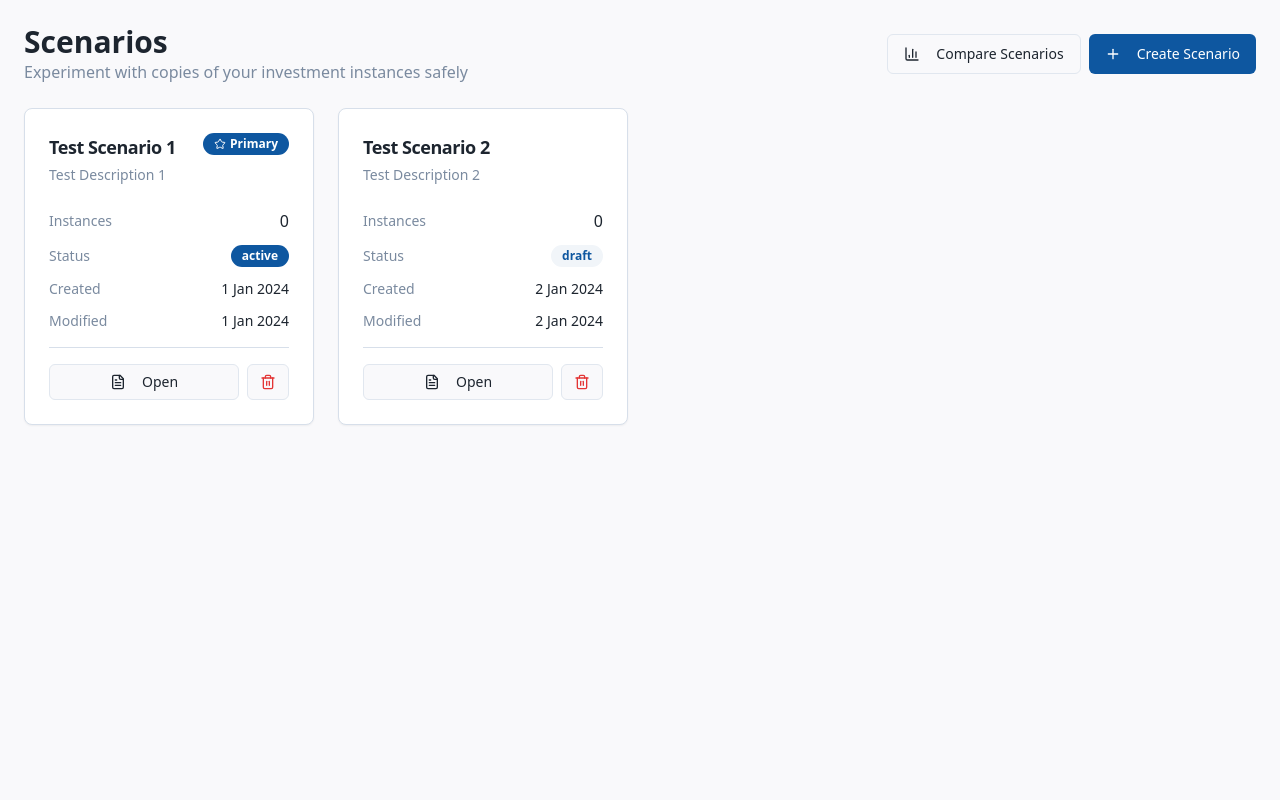
Test: Scenarios Page › handles create scenario dialog
Click the button "Create Scenario".
click(1172, 54)  # box x1=1089 y1=34 x2=1256 y2=74
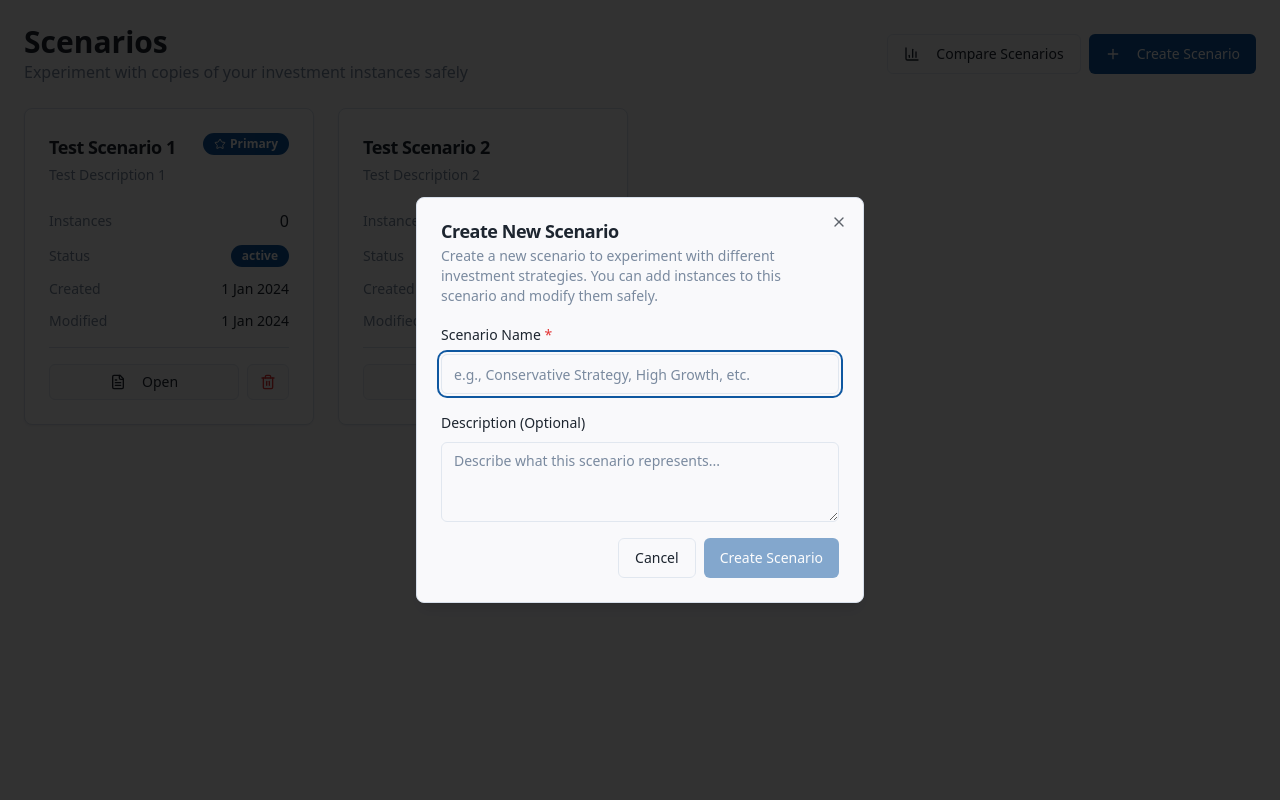
expect the heading "Create New Scenario" is shown: met, box x1=441 y1=219 x2=619 y2=243
